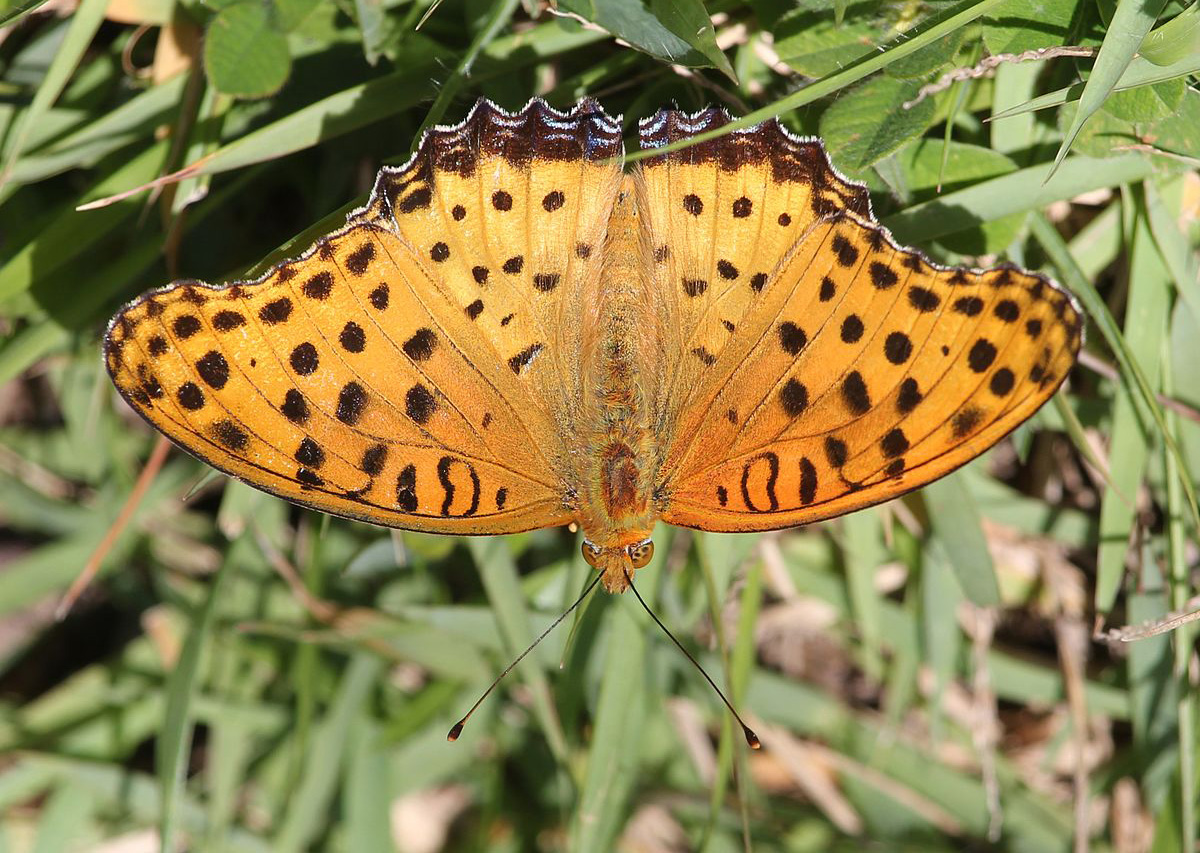Argyreus hyperbius: (90, 81, 1079, 762)
butterfly: (92, 83, 1081, 764)
